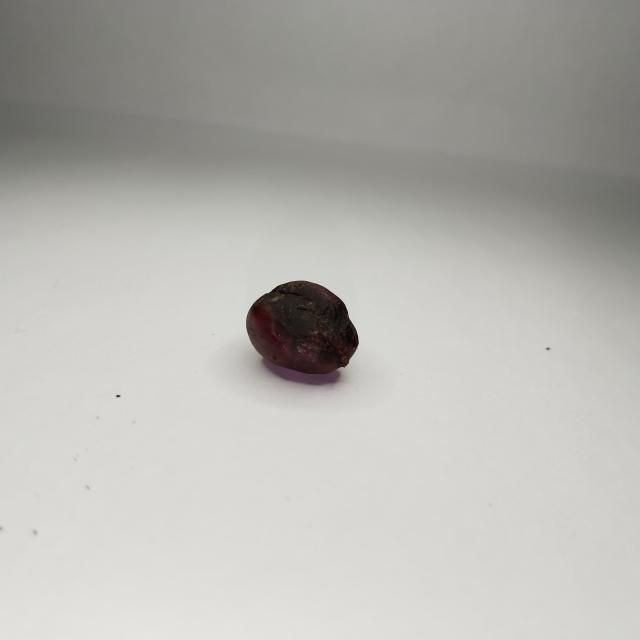Danado: (246, 283, 357, 382)
